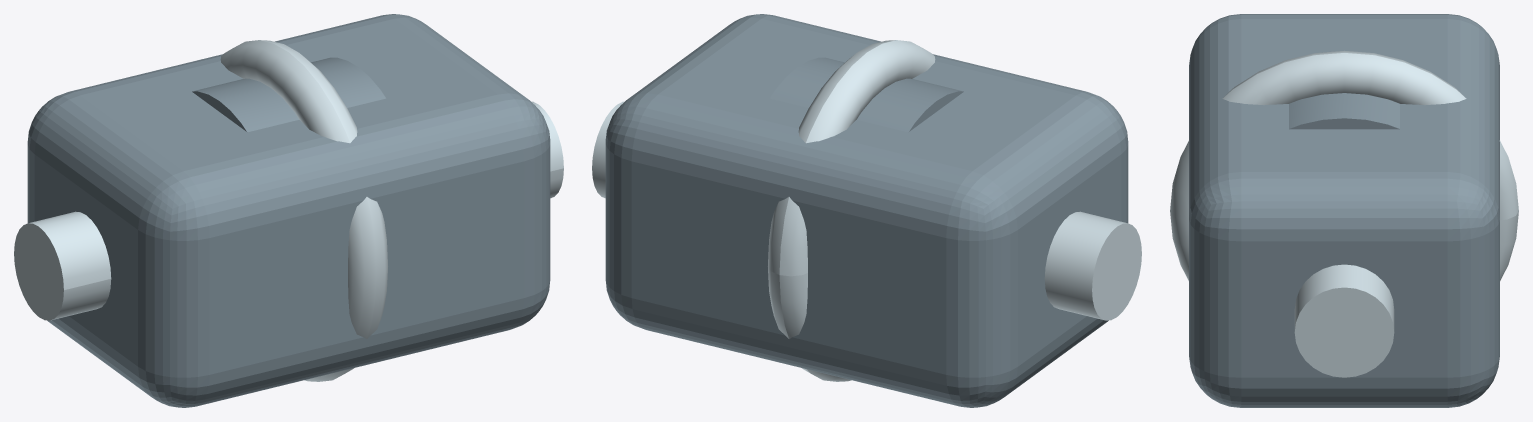
File: g4ed_electronic_control.glb
The picture shows the model from 3 angles, left to right: view 1: azimuth 30°, elevation 25°; view 2: azimuth 150°, elevation 25°; view 3: azimuth 270°, elevation 25°; orthographic projection.
Parts seen in each view (by area): view 1: asset_mesh__g4ed_384__reference_body, asset_mesh__g4ed_390__reference_rim, asset_mesh__g4ed_384__reference_axis, asset_mesh__g4ed_390__reference_rotor; view 2: asset_mesh__g4ed_384__reference_body, asset_mesh__g4ed_390__reference_rim, asset_mesh__g4ed_384__reference_axis, asset_mesh__g4ed_390__reference_rotor; view 3: asset_mesh__g4ed_384__reference_body, asset_mesh__g4ed_390__reference_rim, asset_mesh__g4ed_384__reference_axis, asset_mesh__g4ed_390__reference_rotor.
Part boxes in pixels (x1=…): asset_mesh__g4ed_384__reference_body: x1=27, y1=14, x2=550, y2=407; asset_mesh__g4ed_390__reference_rim: x1=220, y1=40, x2=387, y2=381; asset_mesh__g4ed_384__reference_axis: x1=14, y1=101, x2=563, y2=320; asset_mesh__g4ed_390__reference_rotor: x1=192, y1=57, x2=385, y2=132; asset_mesh__g4ed_384__reference_body: x1=605, y1=14, x2=1128, y2=407; asset_mesh__g4ed_390__reference_rim: x1=768, y1=40, x2=935, y2=381; asset_mesh__g4ed_384__reference_axis: x1=592, y1=101, x2=1141, y2=320; asset_mesh__g4ed_390__reference_rotor: x1=770, y1=57, x2=963, y2=132; asset_mesh__g4ed_384__reference_body: x1=1189, y1=14, x2=1499, y2=407; asset_mesh__g4ed_390__reference_rim: x1=1170, y1=50, x2=1518, y2=280; asset_mesh__g4ed_384__reference_axis: x1=1294, y1=264, x2=1394, y2=377; asset_mesh__g4ed_390__reference_rotor: x1=1289, y1=50, x2=1399, y2=129.
Bounding box in the file's own units: 1.98 × 1.2 × 1.2.
